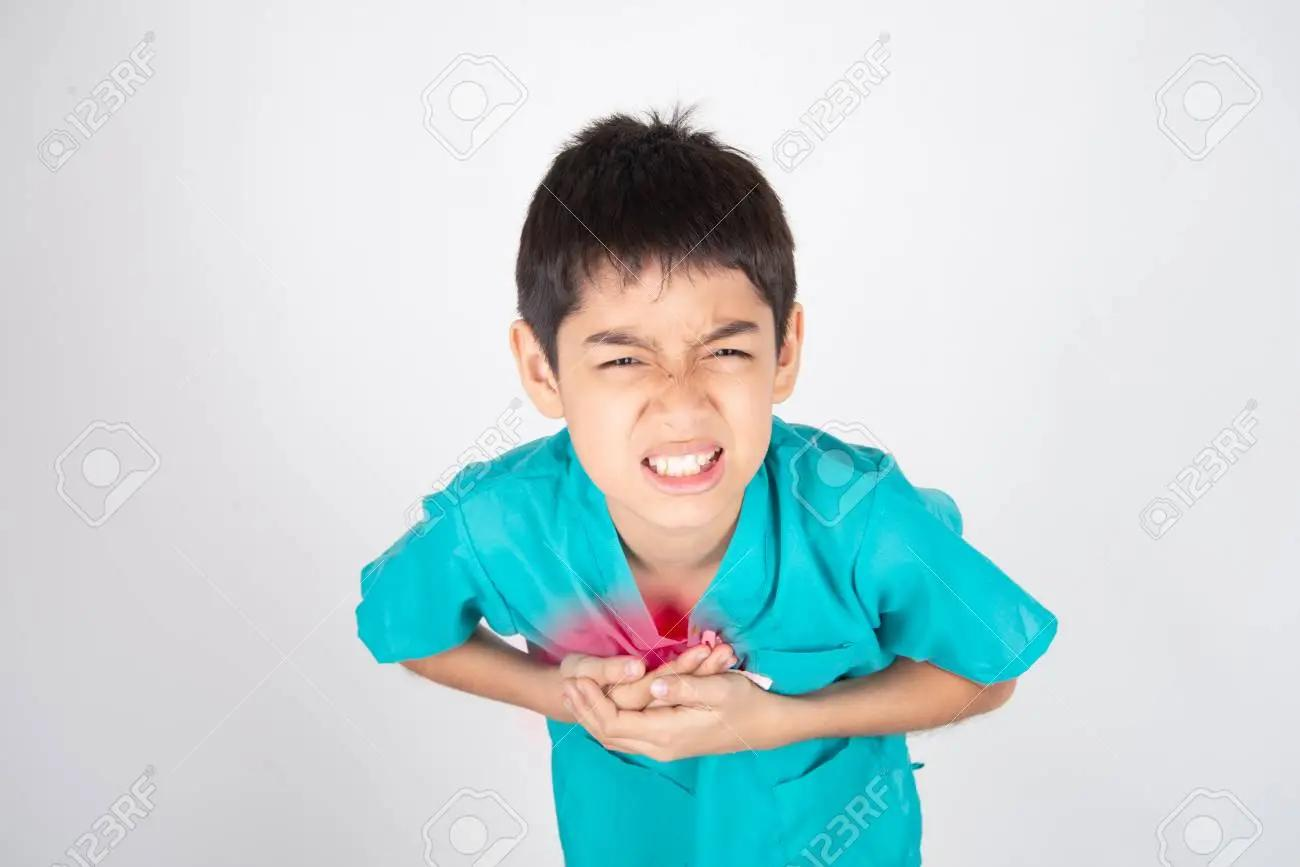pain: (559, 306, 776, 385)
